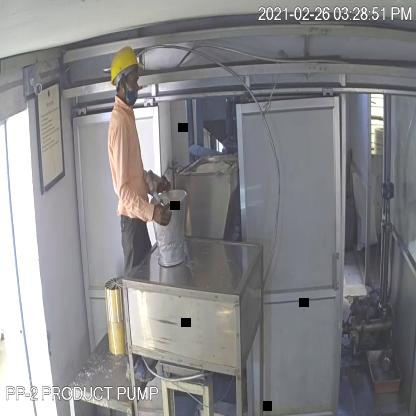helmet: (108, 42, 144, 84)
